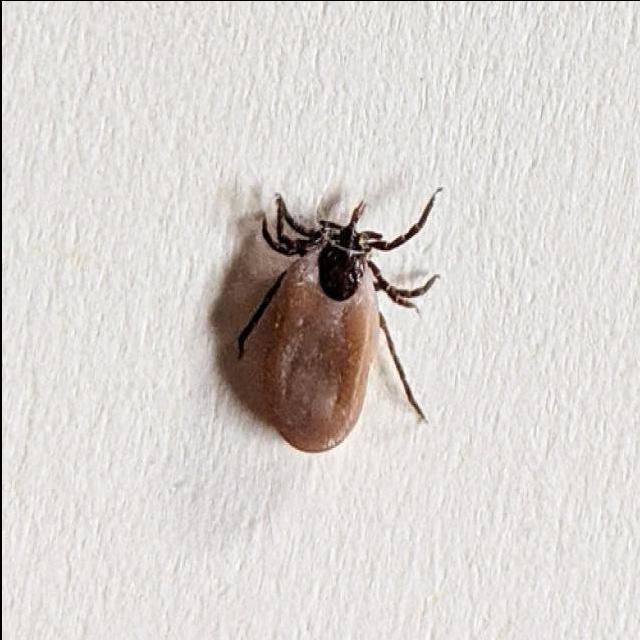Ixodes Ricinus-F-Fed: (228, 193, 436, 452)
